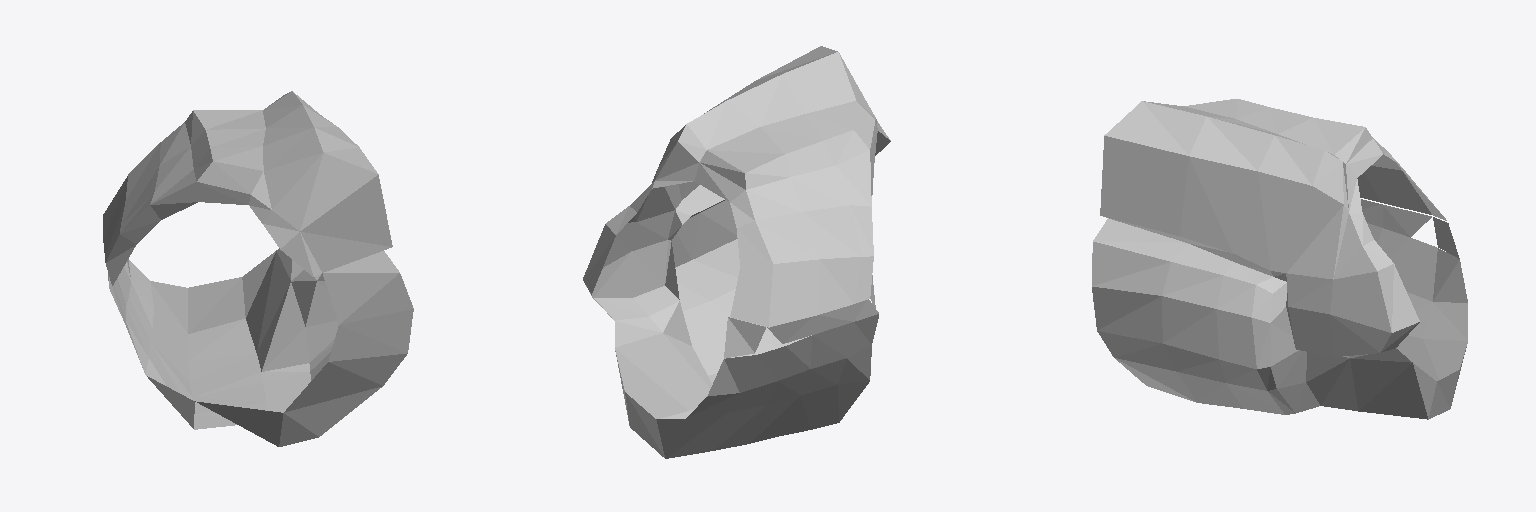
The model's file is X02RightUpperarm.obj.
3 renders of one model, left to right at view 1: azimuth 30°, elevation 25°; view 2: azimuth 150°, elevation 25°; view 3: azimuth 270°, elevation 25°, orthographic.
Visible parts, largest first — view 1: CPA; view 2: CPA; view 3: CPA.
Part boxes in pixels (bbox=[...]): CPA: bbox=[103, 91, 413, 446]; CPA: bbox=[583, 46, 890, 458]; CPA: bbox=[1092, 99, 1467, 419].
Size of the model in its own units: 17.86 by 20.34 by 22.5.